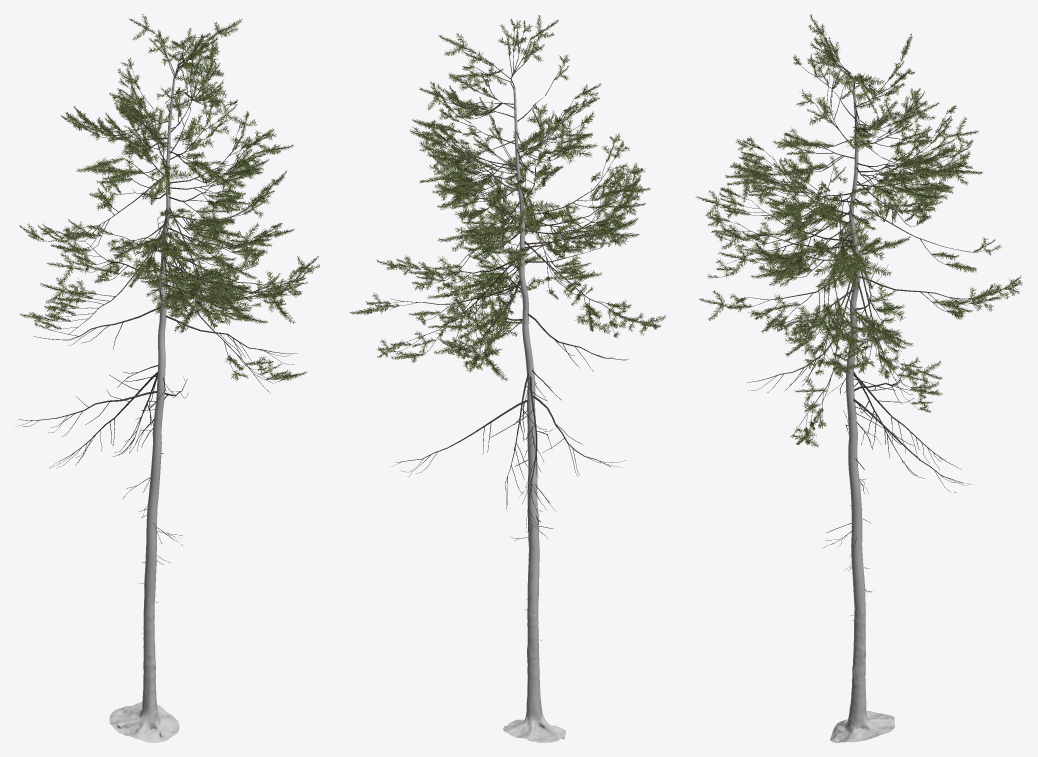
File: fir_tree_01_c.gltf
The picture shows the model from 3 angles, left to right: view 1: azimuth 30°, elevation 25°; view 2: azimuth 150°, elevation 25°; view 3: azimuth 270°, elevation 25°; orthographic projection. The views are drawn at different scales.
Visible parts, largest first — view 1: fir_tree_01_c_LOD0; view 2: fir_tree_01_c_LOD0; view 3: fir_tree_01_c_LOD0.
Boxes of the visible parts, x1,y1,x2,y2 form: fir_tree_01_c_LOD0: [14, 14, 319, 742]; fir_tree_01_c_LOD0: [349, 15, 665, 742]; fir_tree_01_c_LOD0: [695, 14, 1022, 742].
Size of the model in its own units: 6.31 by 14.52 by 5.97.
